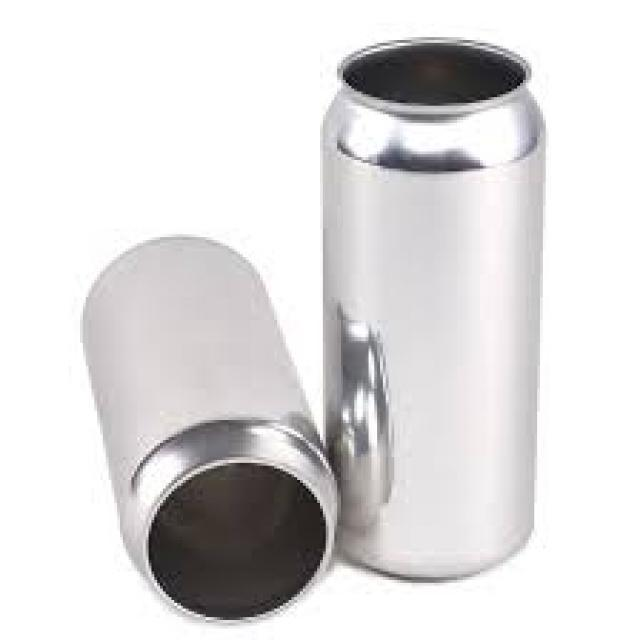recyclable: (321, 32, 557, 586), (80, 232, 337, 624)
